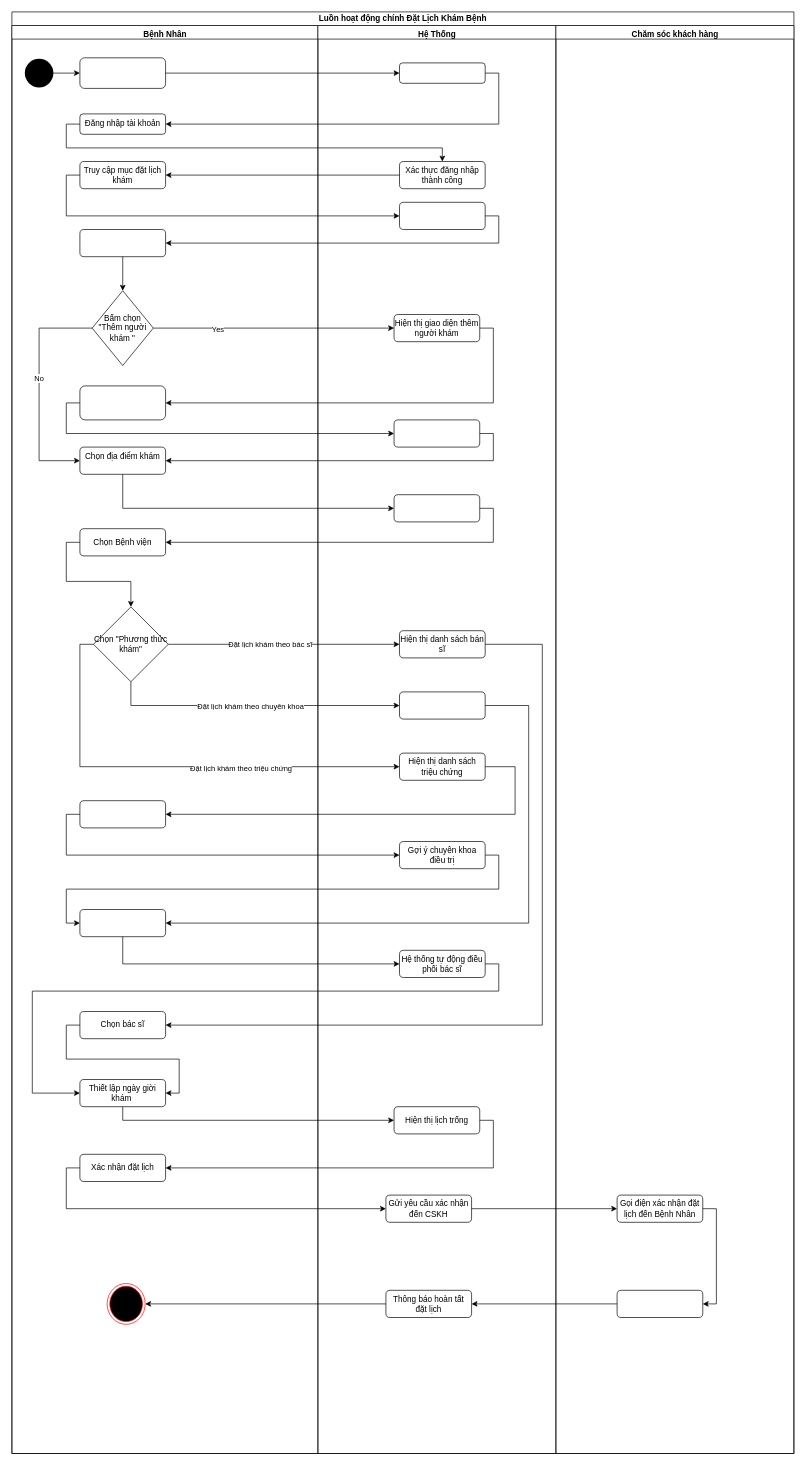
Image size: 806x1465. Some labels were removed from this diagram. The shapes that lost their labels are listed below. From the top down, each one's centre as x and y in pixels, then its label:
the point at 122,72: Truy cập vào ứng dụng "Bệnh viện số"
the point at 442,72: Hiện thị trang chủ
the point at 442,216: Hiện thị giao diện Đặt lịch khám
the point at 122,243: Nhập thông tin người đặt lịch
the point at 122,402: Nhập thông tin người khám và bấm "Hoàn Tất"
the point at 436,433: Cập nhật danh sách người khám
the point at 436,508: Hiện thị danh sách bệnh viện
the point at 442,705: Hiện thị danh sách chuyên khoa
the point at 122,814: Tìm và chọn triệu chứng
the point at 122,923: Chọn chuyên khoa
the point at 659,1304: Xác nhận lịch hẹn
